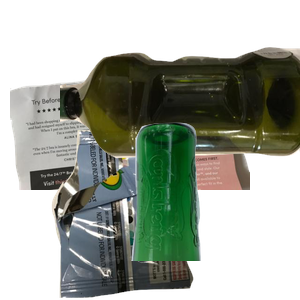glass: (129, 120, 300, 300)
paper: (10, 61, 250, 241)
plastic: (60, 44, 300, 195)
trash: (49, 130, 235, 300)
